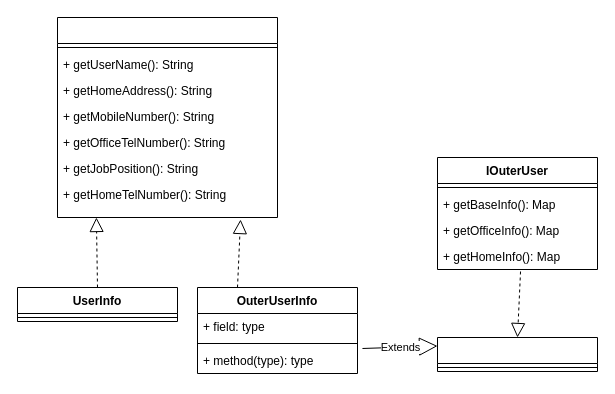
Some shapes in this 615 by 394 pixel diagram are drawn without their labels. Each missing label, with the box of its shape:
IUserInfo: (56, 16, 278, 218)
OuterUser: (436, 336, 598, 372)
